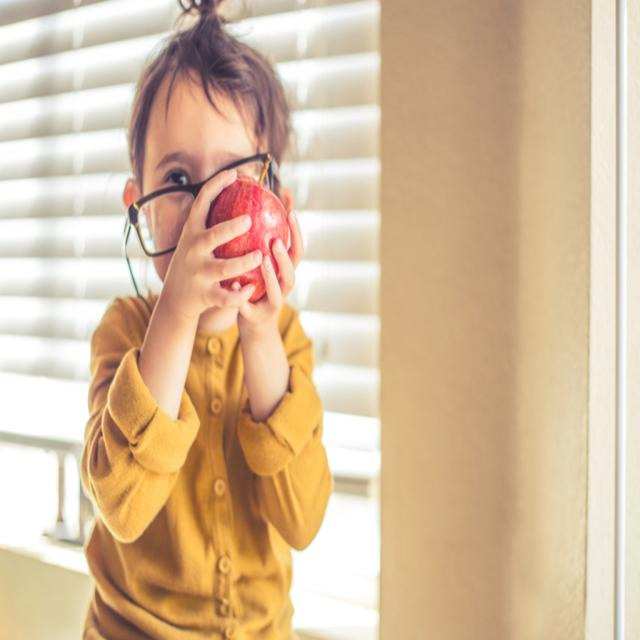Healty Apple: (186, 158, 283, 316)
